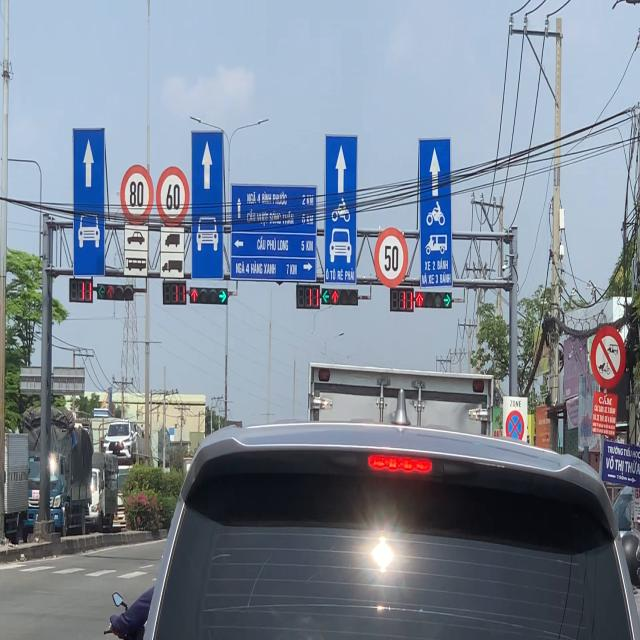Cam con lai: (588, 326, 626, 390)
Cam dung va do: (505, 409, 525, 448)
Toc do toi da: (371, 223, 409, 292), (120, 163, 154, 230), (158, 164, 188, 225)
